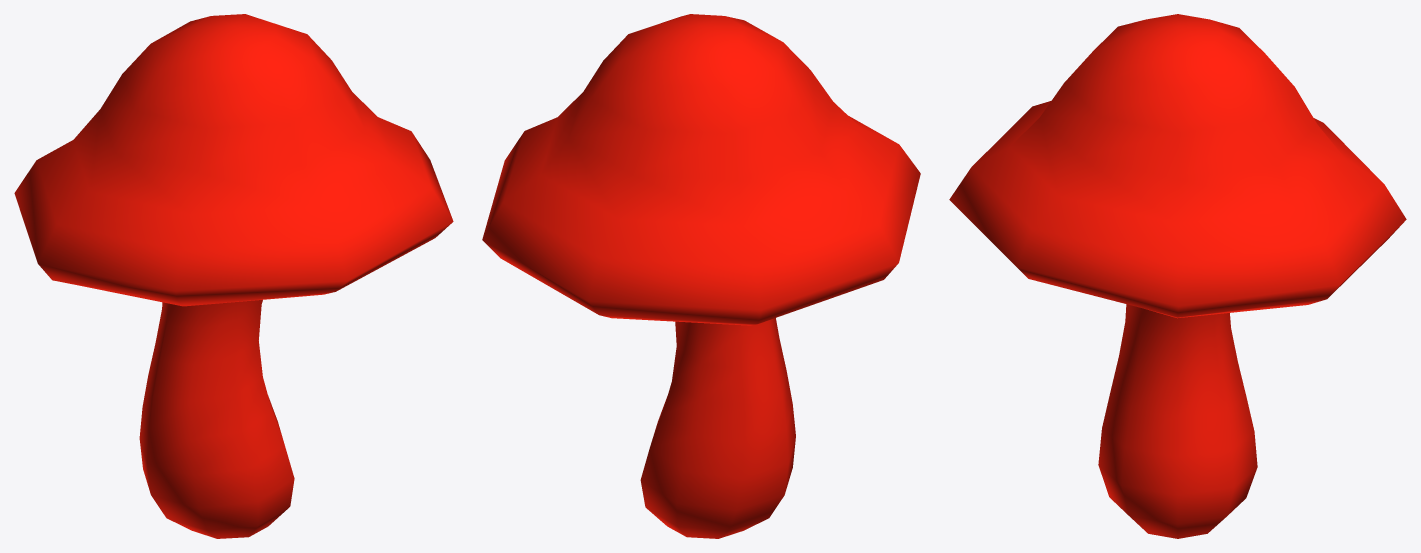
The model's file is Mushroom_Small.fbx.
3 renders of one model, left to right at view 1: azimuth 30°, elevation 25°; view 2: azimuth 150°, elevation 25°; view 3: azimuth 270°, elevation 25°, orthographic.
Parts seen in each view (by area): view 1: Mushroom_Small; view 2: Mushroom_Small; view 3: Mushroom_Small.
Part boxes in pixels (x1,y1,x2,y2): Mushroom_Small: (14, 14, 453, 538); Mushroom_Small: (482, 14, 920, 538); Mushroom_Small: (949, 14, 1406, 538).
Bounding box in the file's own units: 11.67 × 14.03 × 11.68.
